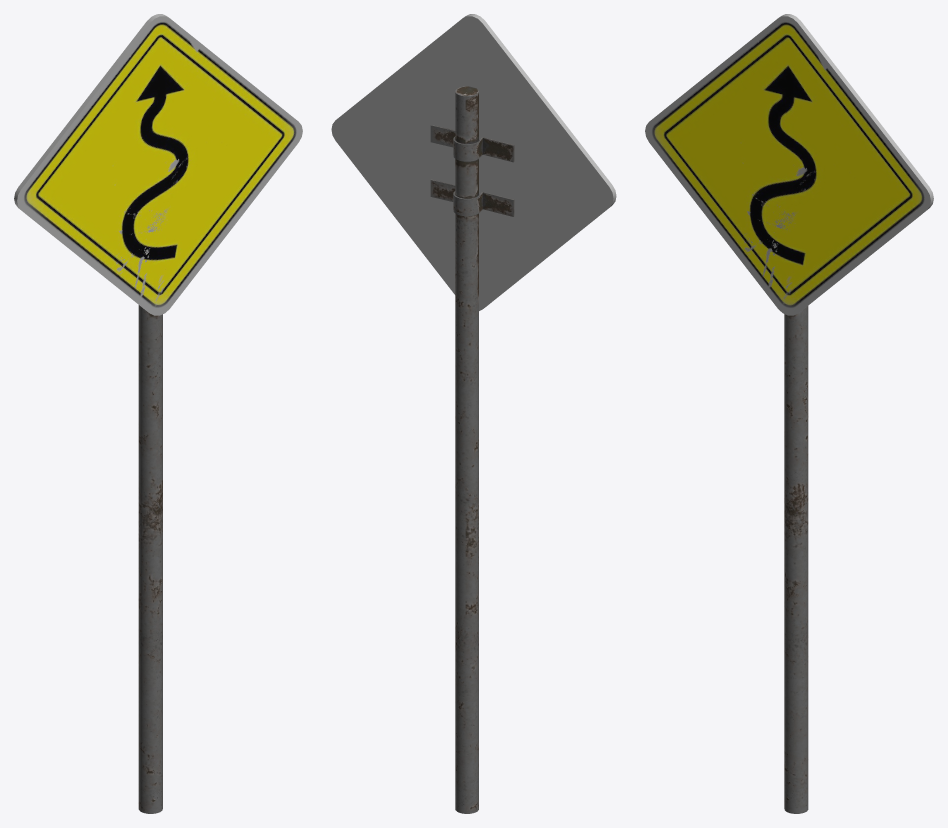
Rendered from sign_winding_road.glb.
3 views of the same model, side by side, from view 1: azimuth 30°, elevation 25°; view 2: azimuth 150°, elevation 25°; view 3: azimuth 330°, elevation 25° (orthographic).
Parts seen in each view (by area): view 1: Winding road sign; view 2: Winding road sign; view 3: Winding road sign.
Part boxes in pixels (<box>): Winding road sign: <box>14,14,302,813</box>; Winding road sign: <box>331,14,616,813</box>; Winding road sign: <box>645,14,933,813</box>.
Size of the model in its own units: 0.8321 by 2.22 by 0.0796.
Materials: 1 (1 with a texture image).
